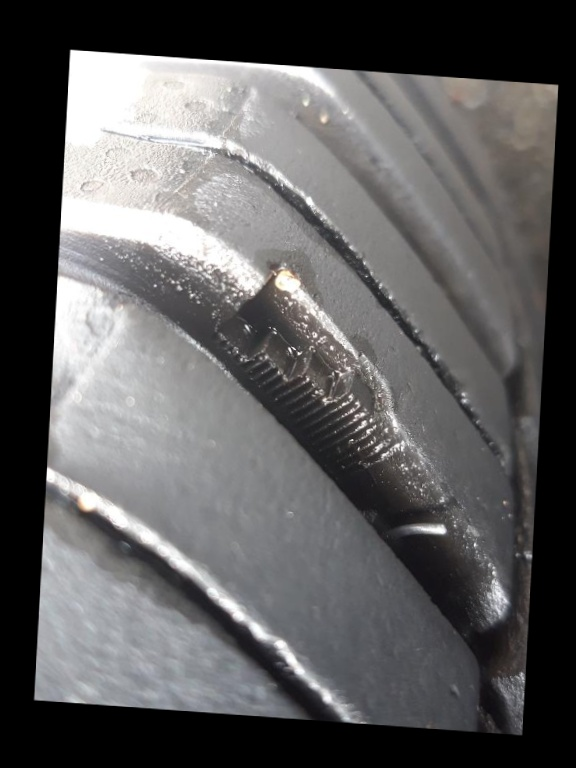temoin:80: (196, 252, 425, 490)
